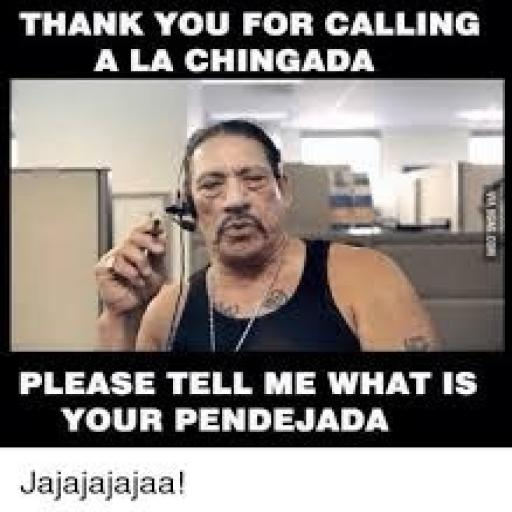calling: (91, 116, 444, 354)
